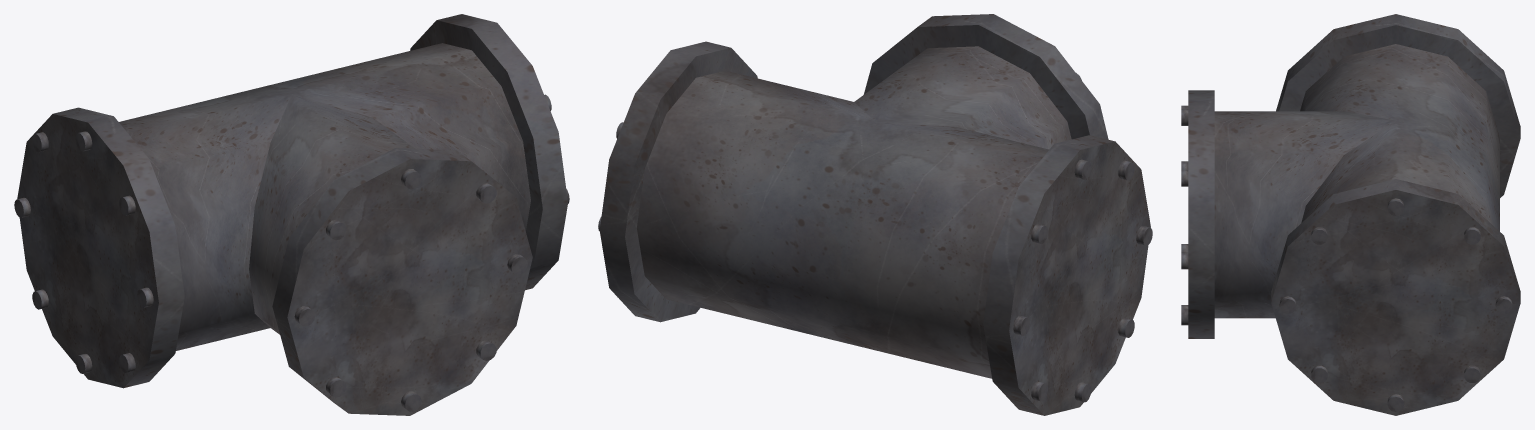
The model's file is Pipe_3way.fbx.
3 renders of one model, left to right at view 1: azimuth 30°, elevation 25°; view 2: azimuth 150°, elevation 25°; view 3: azimuth 270°, elevation 25°, orthographic. The views are drawn at different scales.
Parts seen in each view (by area): view 1: Straight Medium8; view 2: Straight Medium8; view 3: Straight Medium8.
Part boxes in pixels (x1,y1,x2,y2): Straight Medium8: [14, 14, 569, 415]; Straight Medium8: [598, 14, 1152, 415]; Straight Medium8: [1181, 14, 1520, 415].
Bounding box in the file's own units: 10.33 × 6 × 8.16.
